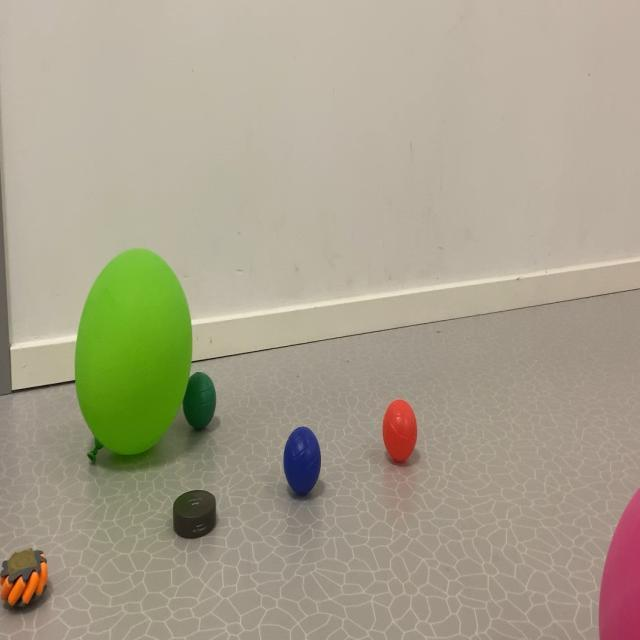blue ball: (276, 429, 327, 498)
green ball: (189, 375, 223, 433)
red ball: (377, 399, 427, 473)
